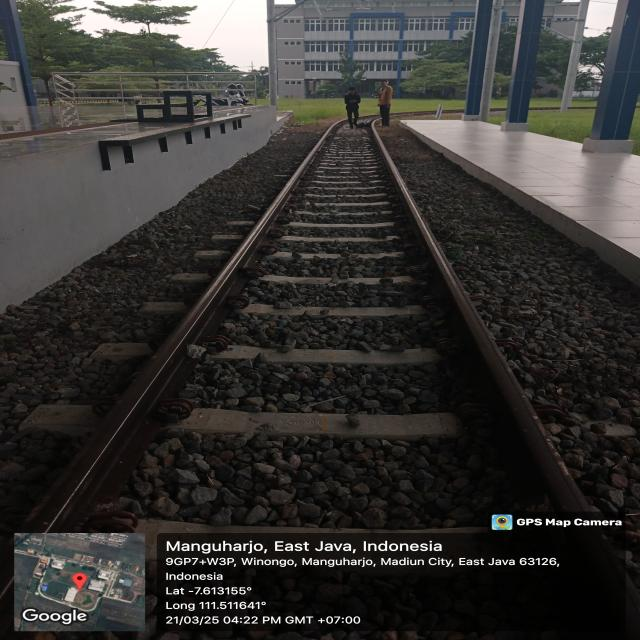rail-detection: (24, 140, 324, 531), (375, 133, 590, 511), (163, 359, 170, 368)
